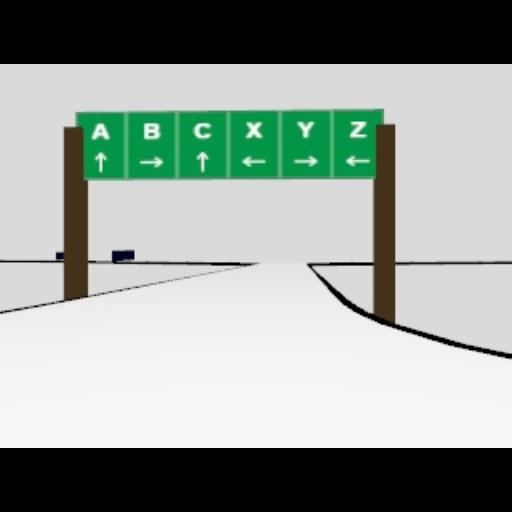A: (90, 121, 108, 139)
B: (142, 121, 160, 139)
C: (192, 121, 212, 139)
Left: (240, 156, 268, 166), (342, 156, 370, 166)
Right: (137, 156, 163, 168), (293, 156, 319, 166)
Straight: (94, 150, 108, 172), (196, 150, 208, 172)
X: (245, 120, 263, 138)
Y: (296, 120, 314, 138)
Z: (349, 120, 367, 138)
